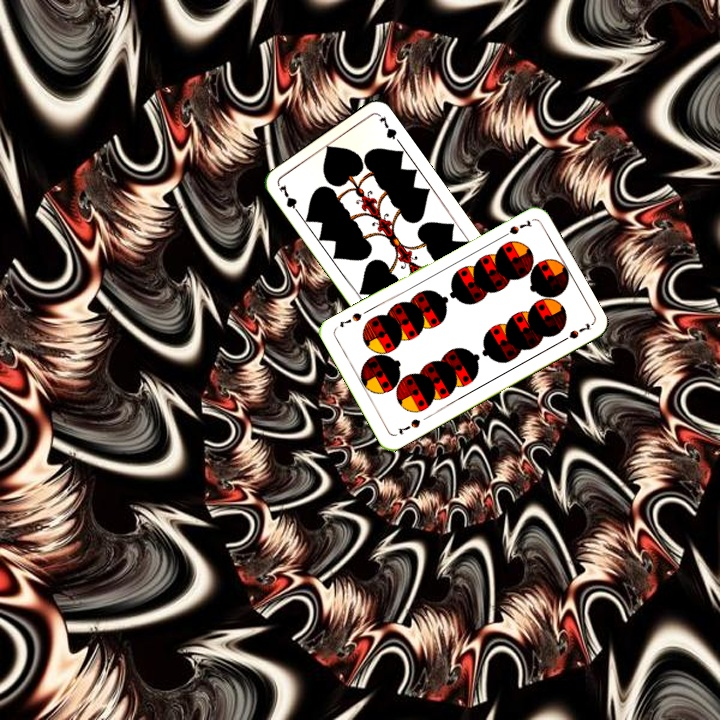G7: (275, 180, 303, 218)
S7: (497, 216, 535, 241), (393, 415, 423, 437)
